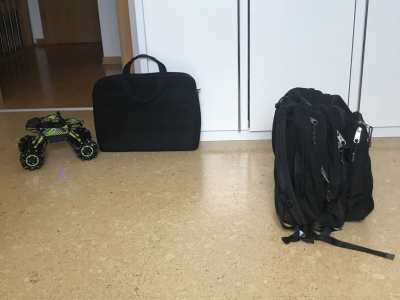remote control car: (14, 110, 103, 173)
